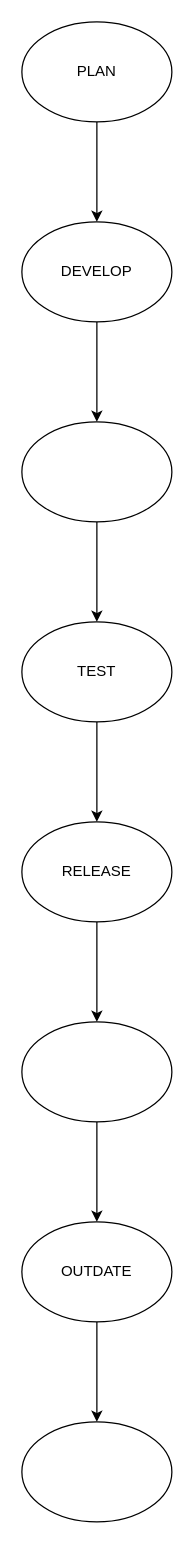
Image size: 194x1544. Some labels were removed from this diagram. The box of each missing label's shape, as (x1, y1, x2, y2) in pixels:
BUILD: (21, 421, 172, 522)
DEPLOY: (21, 1021, 172, 1122)
MONITOR: (21, 1421, 172, 1522)
